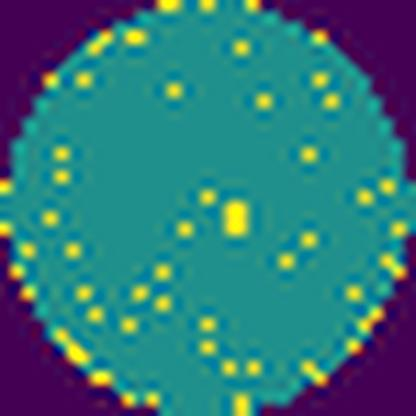Center: (216, 195, 255, 245)
